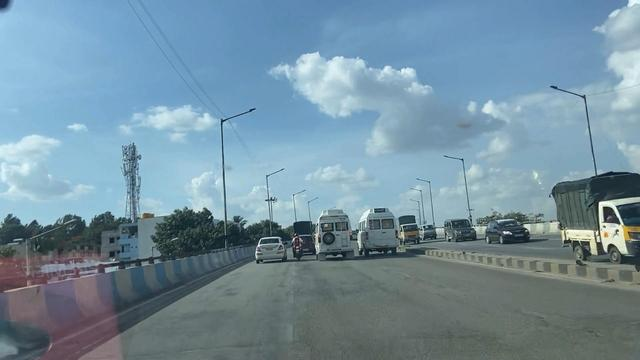HMV: (350, 201, 400, 262), (310, 205, 356, 259)
LMV: (257, 237, 286, 264), (289, 237, 306, 260)
